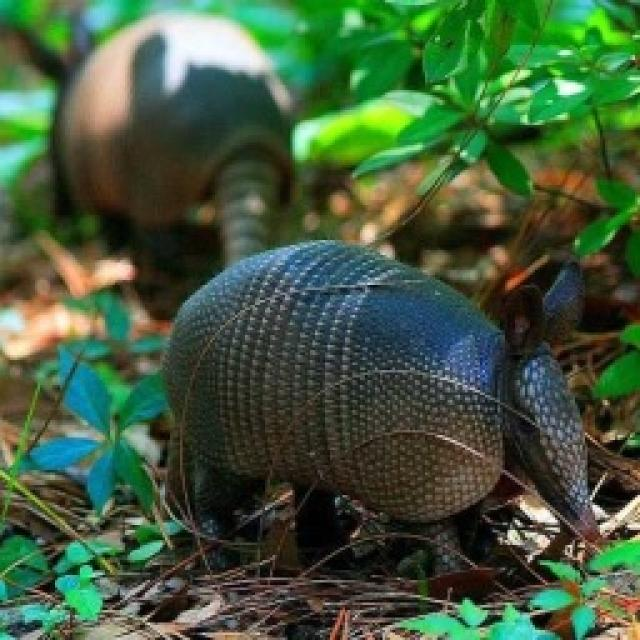not_pig: (157, 235, 605, 573), (48, 8, 300, 320)
